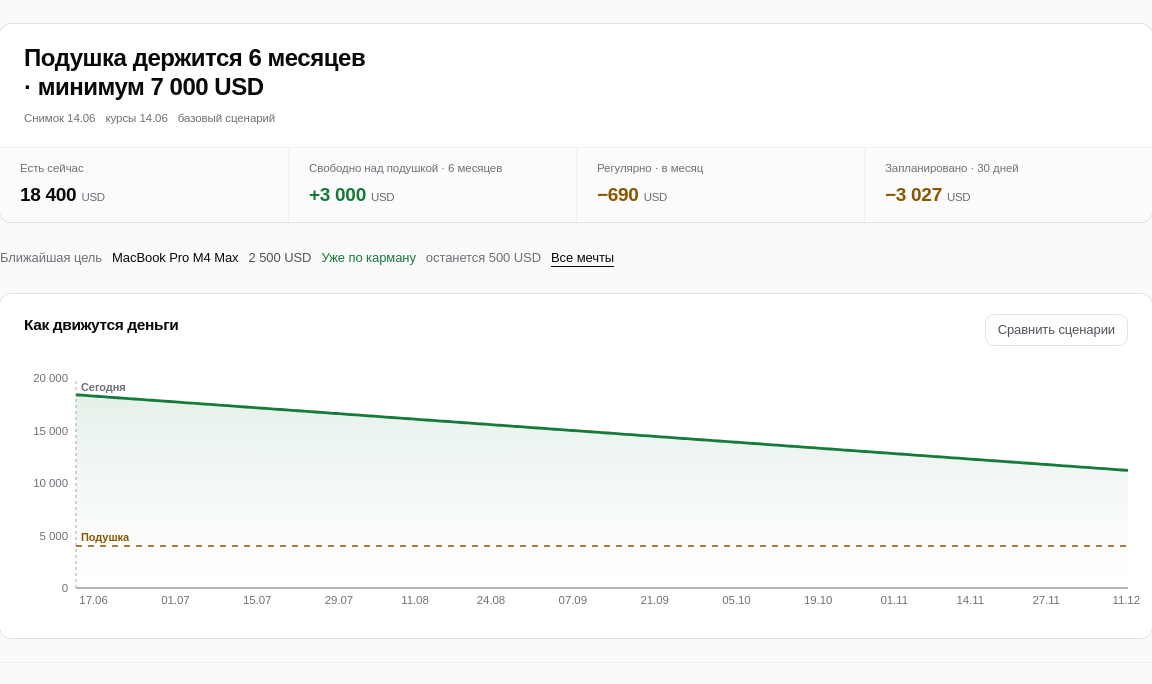
Test: интерфейсные регрессии аудита › дашборд раскрывает сценарии по запросу и сворачивает дублирующие детали
expect the button "Оптимистичный" is not shown: met
expect the button "Осторожный" is not shown: met
Click the button "Сравнить сценарии": point(1056, 330) [985,314,1128,346]
(page scrolled)
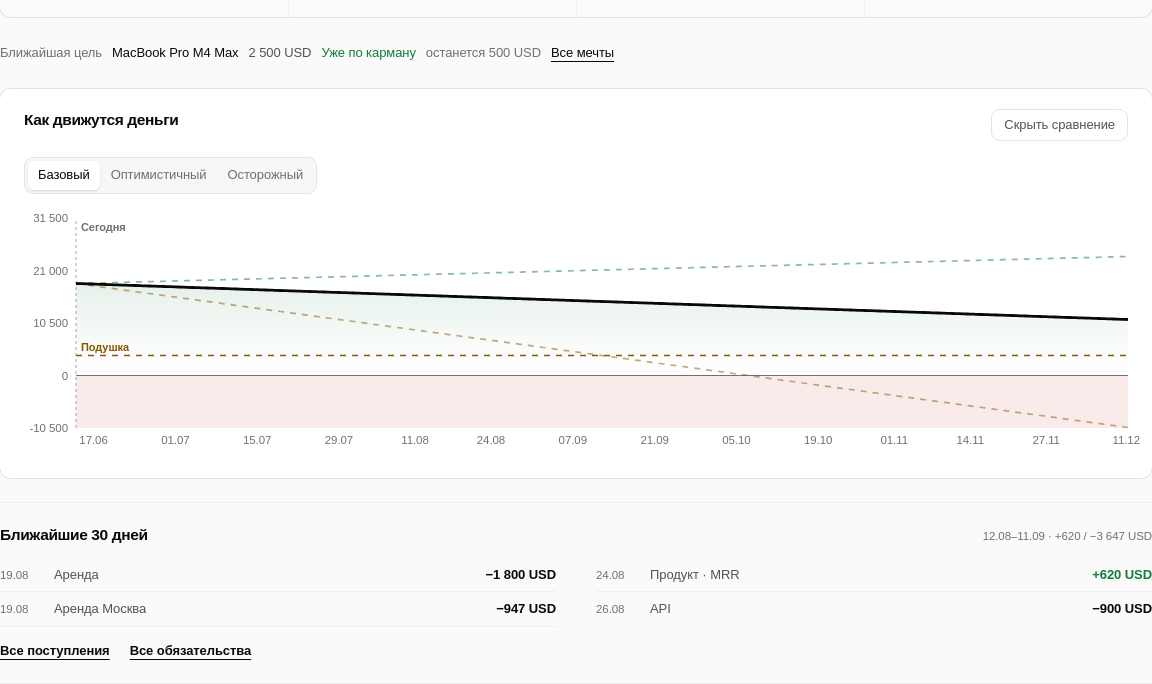
expect the heading "Ближайшие 30 дней" is shown: met, box [0,523,148,546]
expect the button "Оптимистичный" is shown: met, box [101,161,216,190]
expect the button "Осторожный" is shown: met, box [217,161,313,190]
